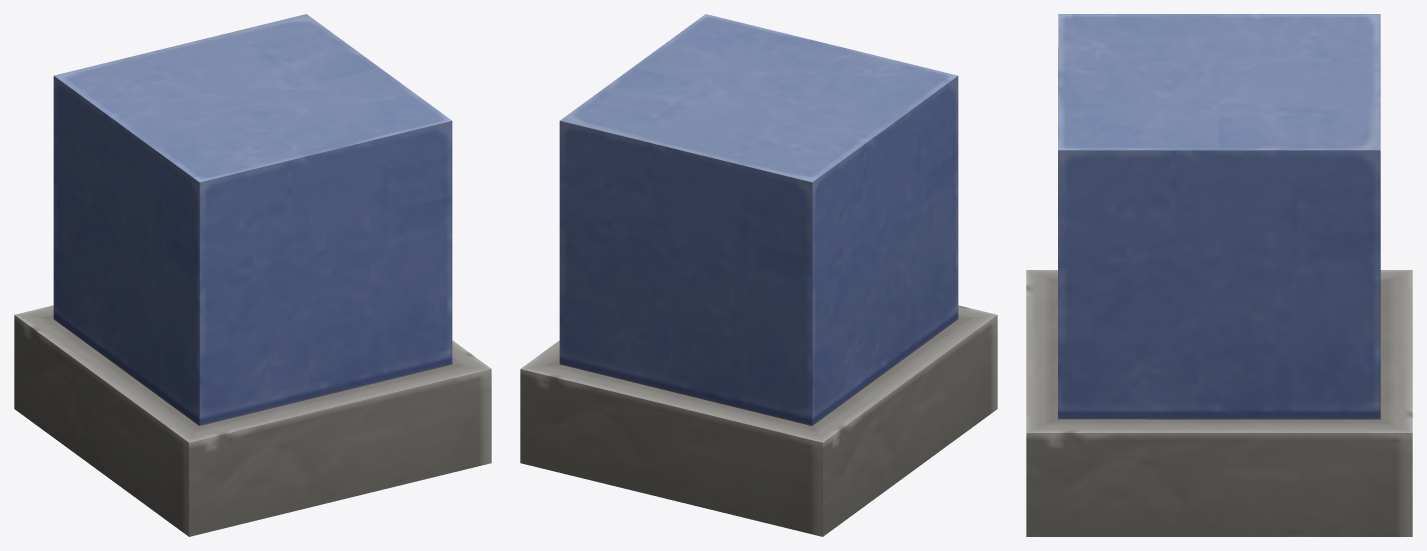
Rendered from sc_wjgc_001_009.FBX.
3 renders of one model, left to right at view 1: azimuth 30°, elevation 25°; view 2: azimuth 150°, elevation 25°; view 3: azimuth 270°, elevation 25°, orthographic. The views are drawn at different scales.
Visible parts, largest first — view 1: sc_wjgc_001_009; view 2: sc_wjgc_001_009; view 3: sc_wjgc_001_009.
Boxes of the visible parts, x1,y1,x2,y2 form: sc_wjgc_001_009: [14, 14, 491, 536]; sc_wjgc_001_009: [520, 14, 997, 536]; sc_wjgc_001_009: [1026, 14, 1412, 536].
Size of the model in its own units: 2.35 by 2.51 by 2.36.
